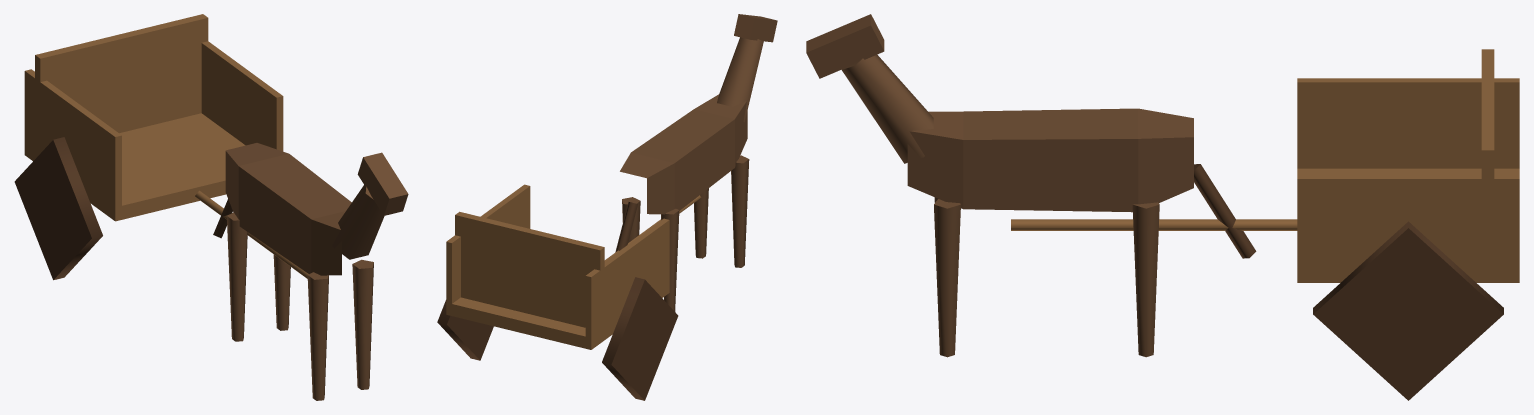
The model's file is veh_ground_chariot_a01_lod2.glb.
3 views of the same model, side by side, from view 1: azimuth 30°, elevation 25°; view 2: azimuth 150°, elevation 25°; view 3: azimuth 270°, elevation 25° (orthographic). The views are drawn at different scales.
Parts seen in each view (by area): view 1: body, animal_0, wheel_0; view 2: body, animal_0, wheel_0, wheel_1; view 3: body, animal_0, wheel_1.
Boxes of the visible parts, x1,y1,x2,y2 form: body: (24, 14, 308, 278); animal_0: (213, 143, 408, 400); wheel_0: (14, 137, 102, 280); body: (446, 184, 701, 349); animal_0: (615, 14, 777, 311); wheel_0: (602, 277, 678, 400); wheel_1: (437, 300, 493, 360); body: (1011, 49, 1519, 282); animal_0: (806, 14, 1256, 357); wheel_1: (1313, 221, 1503, 400).
Bounding box in the file's own units: 1.8 × 2.23 × 4.49.
